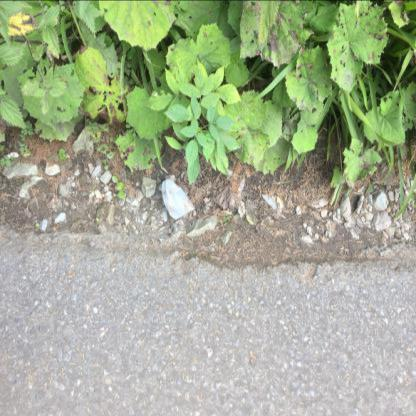Can: (161, 176, 196, 220)
